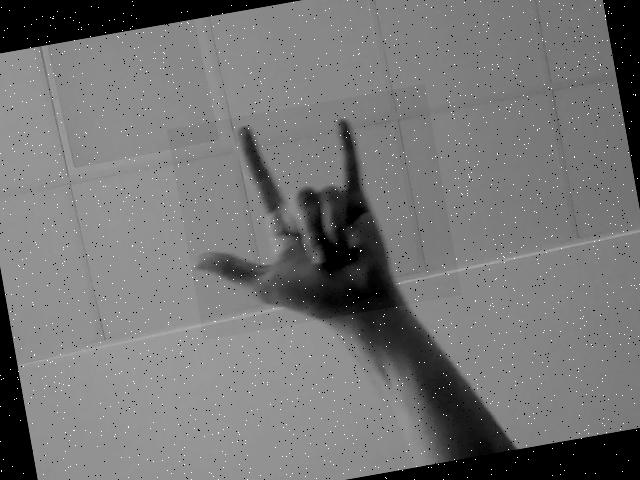I_Love_You: (166, 83, 462, 340)
